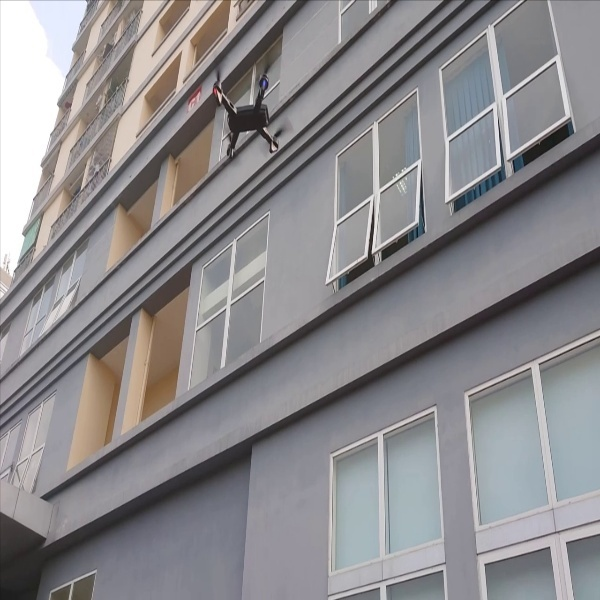drone: (208, 58, 293, 167)
